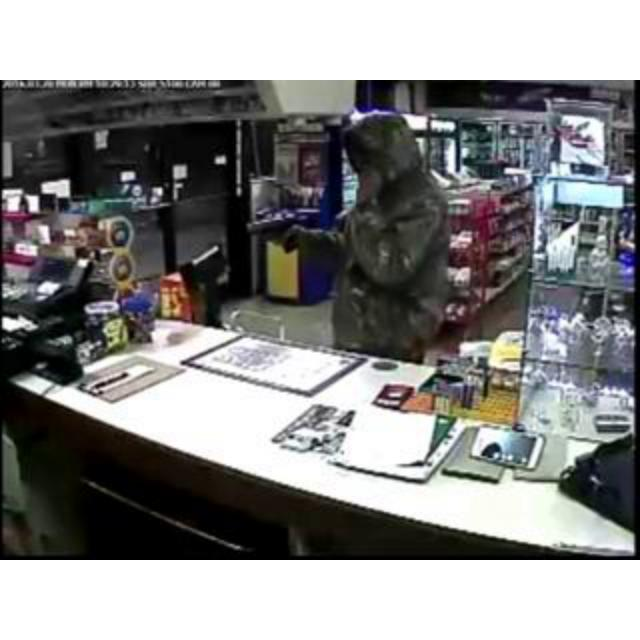criminal: (242, 111, 452, 362)
weapon: (244, 210, 300, 253)
